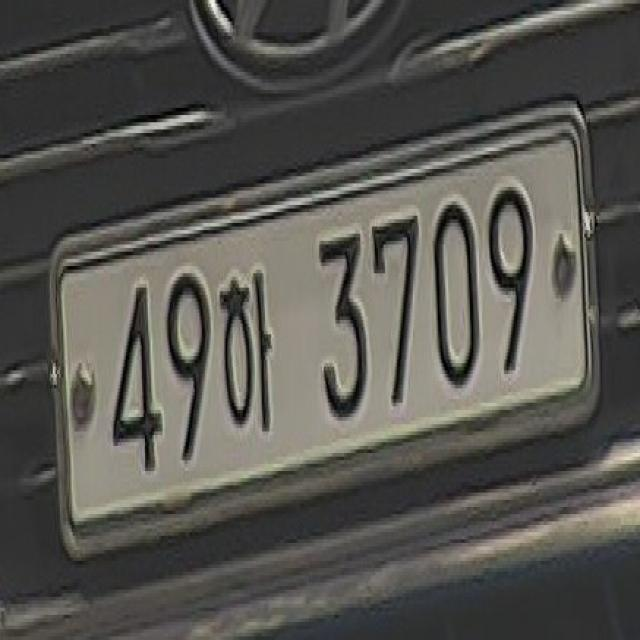0: (432, 169, 482, 401)
3: (318, 224, 370, 423)
4: (110, 266, 162, 488)
7: (373, 196, 422, 416)
9: (486, 158, 534, 391), (166, 260, 213, 476)
ha: (218, 260, 278, 453)
license_plate: (45, 73, 610, 598)
